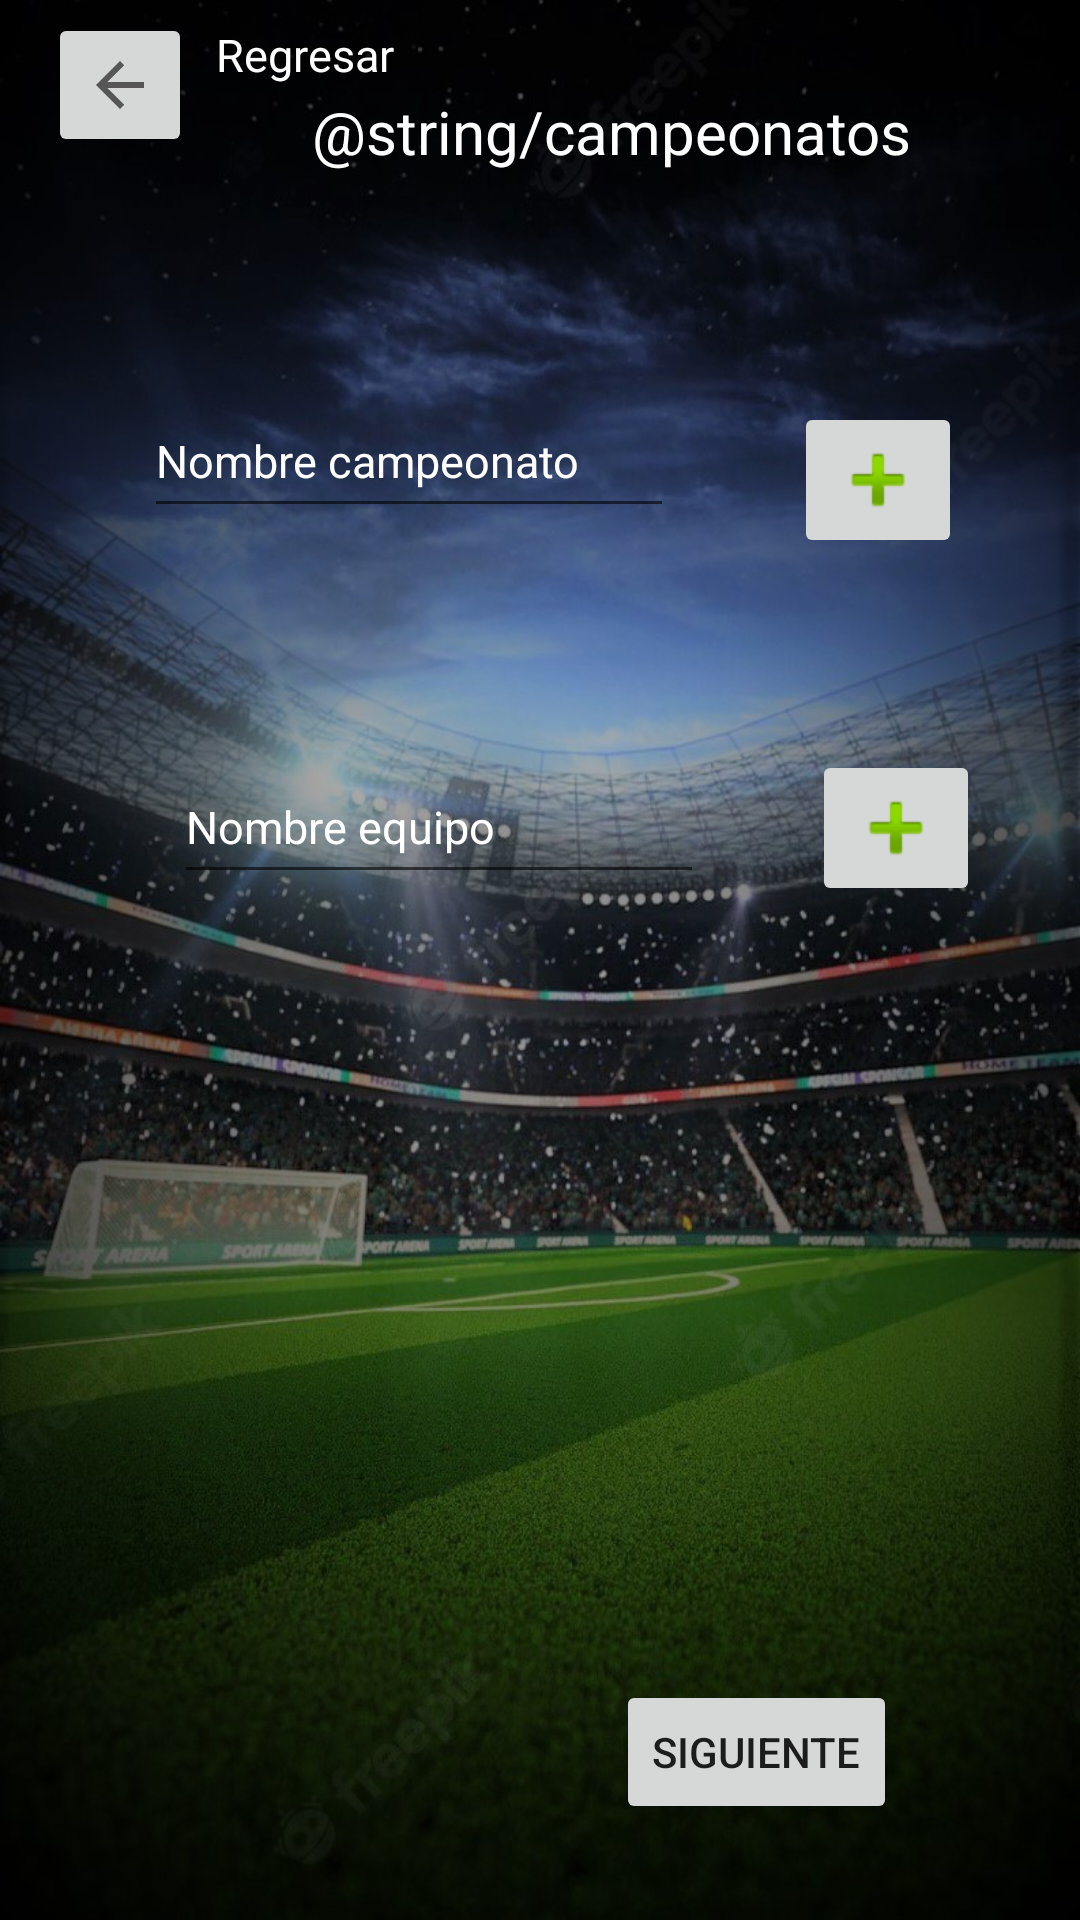

Where to tap for icons on this 1080w x 1920h app screen, as (x=x, y=y):
add: (x=878, y=480), (x=896, y=828)
